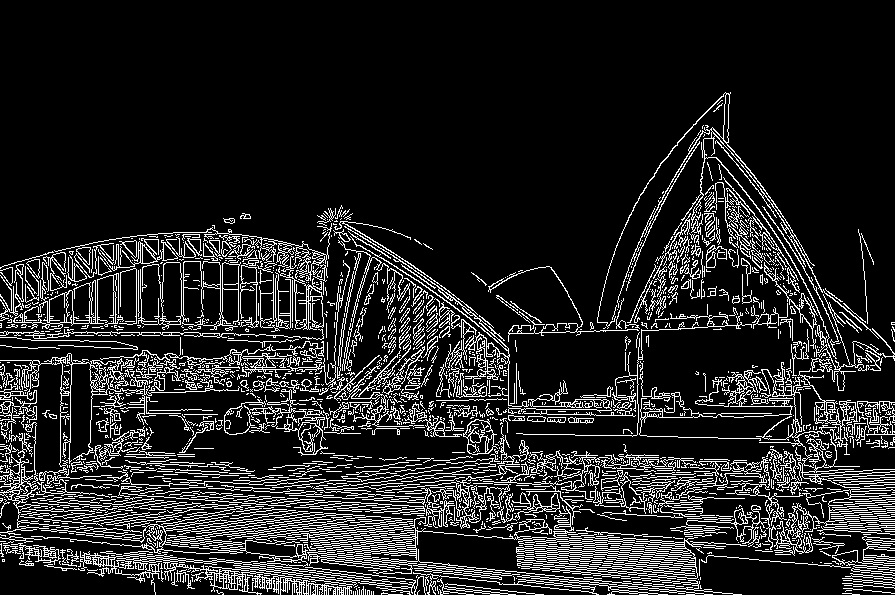opera house: (242, 95, 870, 409)
